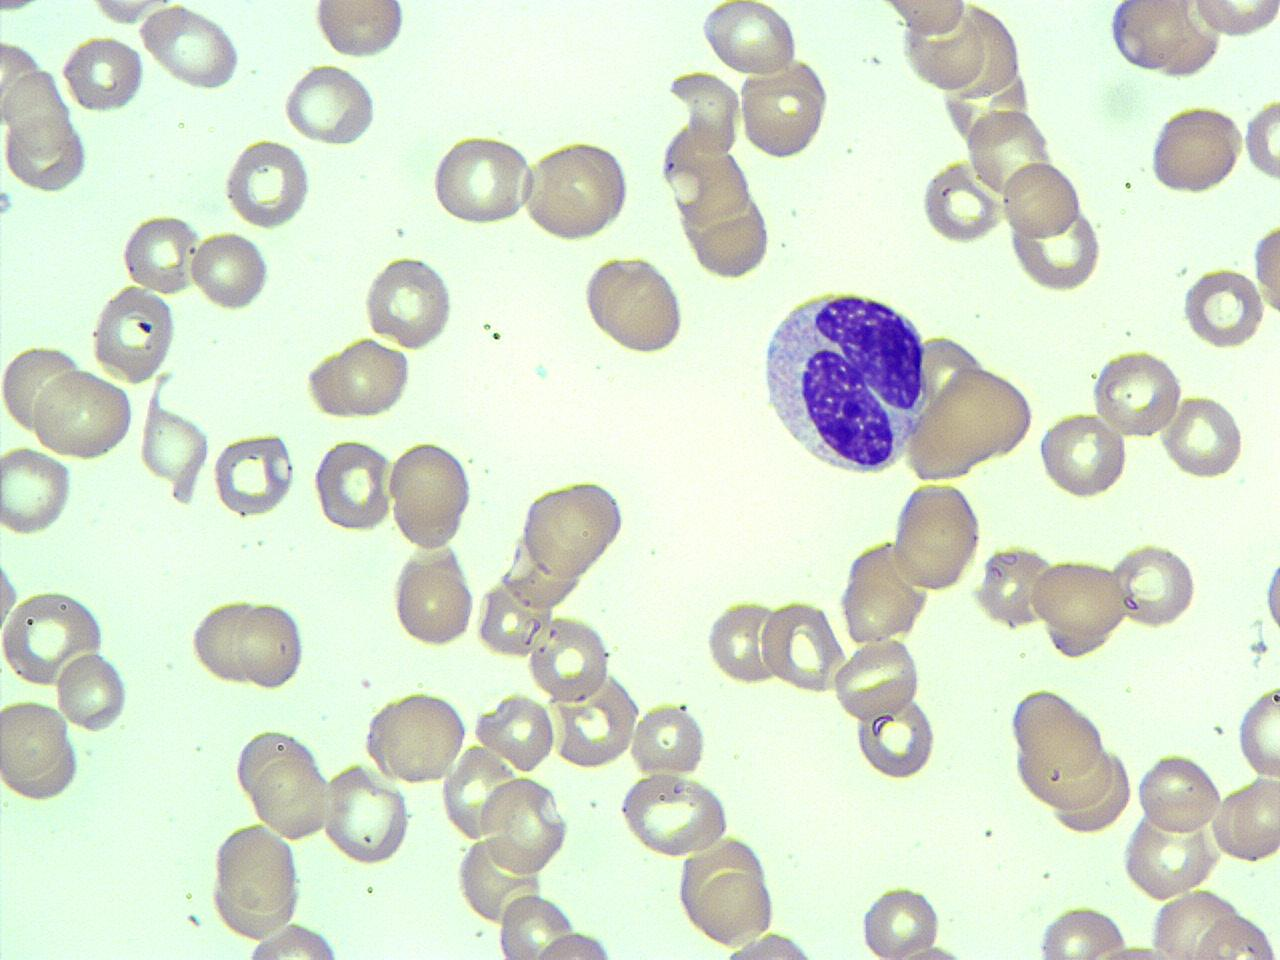Platelets: (0, 187, 16, 222)
RBC: (911, 362, 1039, 470), (1006, 682, 1113, 810), (523, 136, 634, 244), (208, 820, 305, 942), (582, 252, 690, 358), (519, 476, 629, 578), (1, 586, 108, 690), (887, 479, 983, 594), (1028, 555, 1130, 656), (364, 688, 470, 786), (428, 130, 534, 228), (618, 770, 734, 858), (386, 438, 474, 552), (30, 366, 133, 463), (1118, 806, 1220, 902), (321, 760, 410, 868), (736, 61, 830, 162), (838, 542, 928, 647), (138, 3, 246, 92), (305, 335, 414, 422), (361, 254, 458, 350), (88, 284, 180, 384), (478, 774, 568, 876), (390, 544, 477, 649), (1147, 102, 1245, 196), (759, 596, 849, 696), (0, 696, 81, 806), (1089, 347, 1184, 439), (548, 675, 638, 772), (279, 63, 379, 146), (222, 136, 312, 228), (232, 722, 326, 811), (1008, 207, 1104, 293), (965, 105, 1053, 198), (1036, 412, 1130, 500), (830, 634, 923, 722), (138, 396, 211, 508), (1110, 541, 1200, 628), (312, 435, 392, 534), (0, 340, 83, 436), (696, 0, 799, 77), (1178, 262, 1266, 352), (1134, 750, 1224, 838), (528, 612, 614, 704), (854, 692, 940, 782), (212, 430, 296, 520), (688, 862, 776, 948), (1161, 392, 1245, 482), (1145, 886, 1247, 960), (974, 541, 1055, 632), (703, 594, 785, 686), (120, 210, 204, 298), (0, 442, 74, 539), (918, 157, 1000, 245), (475, 691, 558, 775), (248, 752, 330, 839), (668, 67, 742, 162), (57, 34, 146, 113), (857, 880, 944, 959), (1000, 158, 1082, 241), (1, 115, 88, 194), (234, 598, 306, 692), (190, 229, 272, 312), (1105, 0, 1193, 75), (1209, 774, 1280, 868), (188, 596, 262, 686), (55, 648, 131, 735), (626, 700, 708, 778), (3, 64, 74, 154), (308, 2, 409, 61), (494, 890, 574, 960), (692, 209, 770, 279), (1034, 904, 1130, 960), (236, 920, 352, 958), (1236, 682, 1280, 782), (1188, 912, 1276, 959), (1189, 0, 1280, 40), (873, 0, 973, 36), (1248, 213, 1280, 324), (716, 930, 829, 960), (1243, 91, 1279, 186), (526, 930, 622, 960), (873, 938, 982, 960), (82, 0, 171, 26)
WBC: (751, 279, 936, 481)
